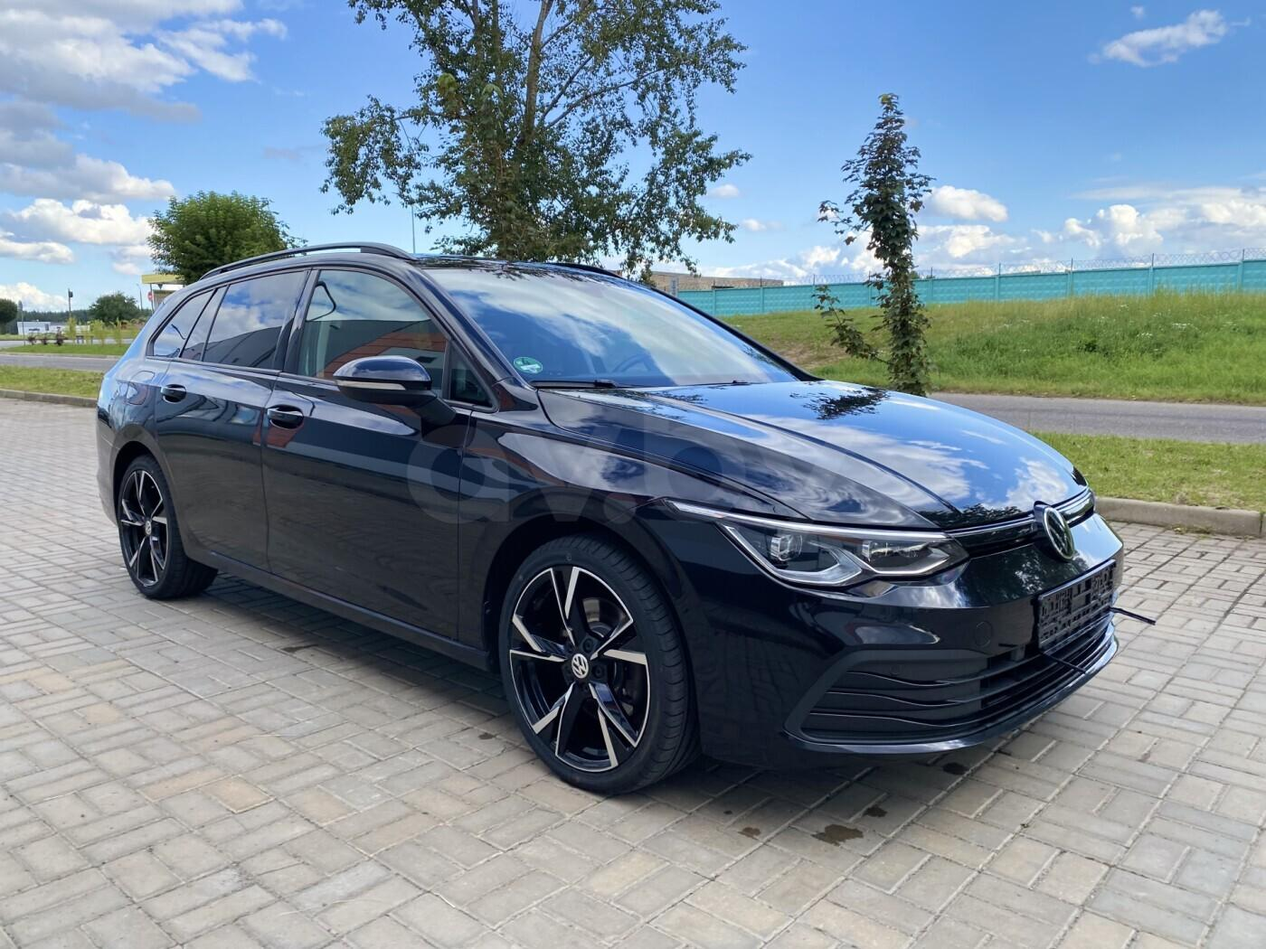Golf_2019: (85, 241, 1122, 795)
